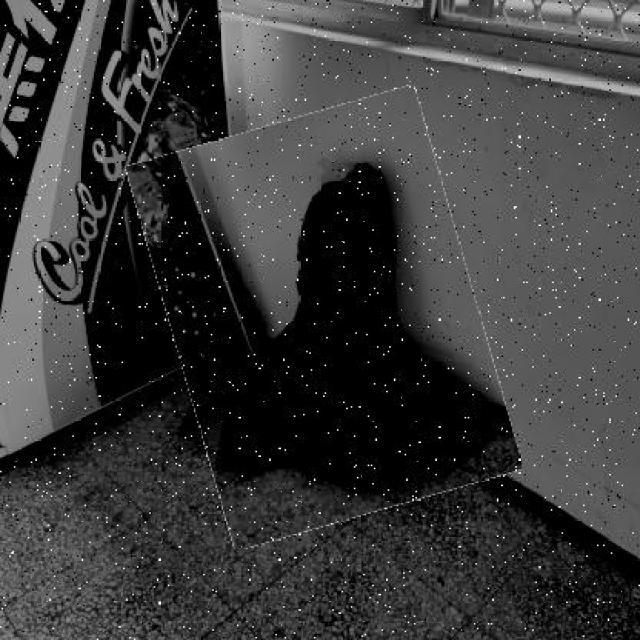waste: (150, 102, 498, 536)
